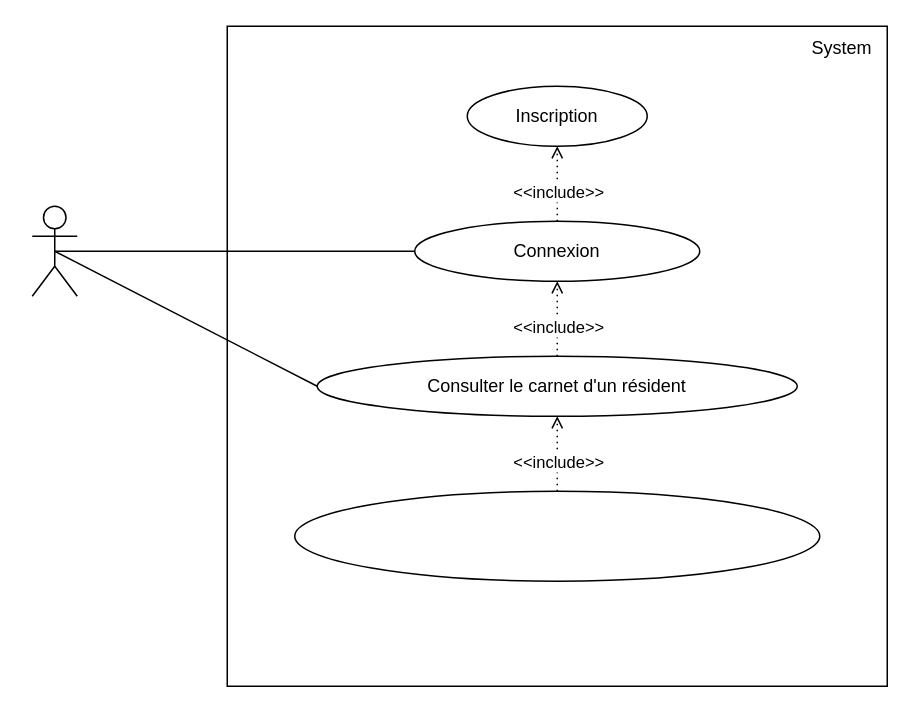
Some shapes in this 914 by 713 pixel diagram are drawn without their labels. Here are the shapes that lost their labels. From the top down, the centre of each, then its label:
point (54, 250): Proche
point (556, 535): Affichage des champs d'informations réservés aux proches
